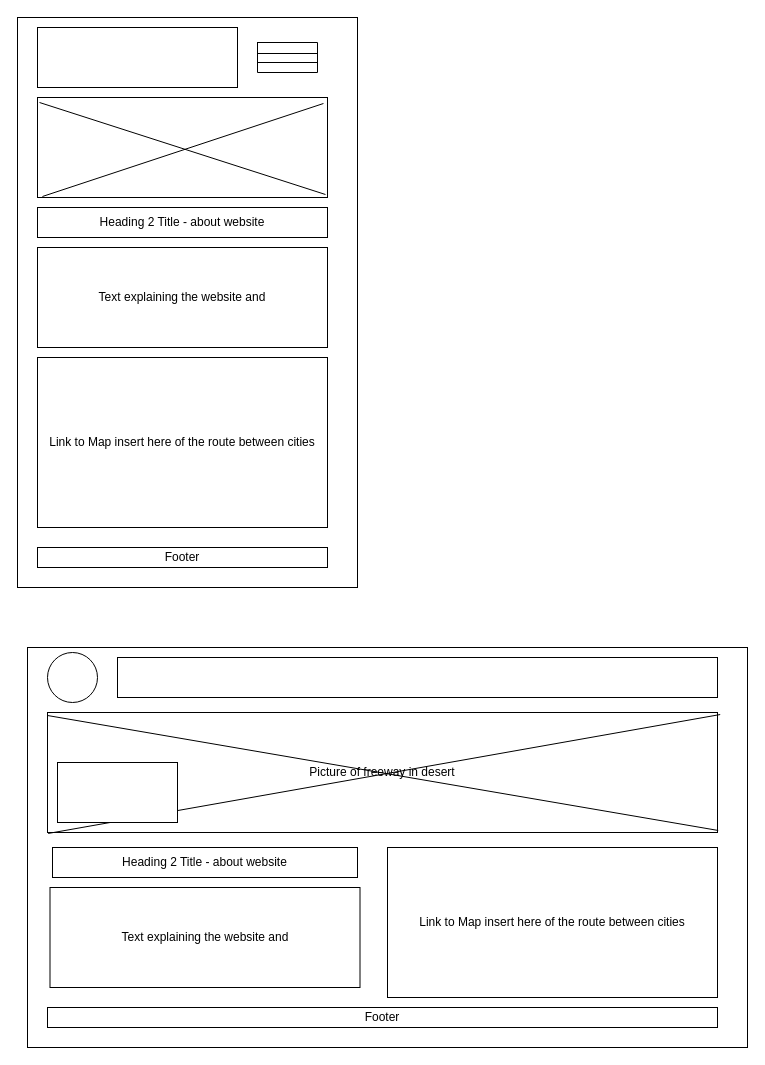
This 765x1065 diagram has some shape labels left out. The shapes that lost their labels are listed below. From the top down, each one's centre as x and y in pixels, then its label:
pixel 137 57: Headin 1 - Home page title
pixel 182 147: Picture of freeway in the desert
pixel 72 677: logo
pixel 417 677: Navigation menus
pixel 117 792: Heading 1 title overlaid on hero image
